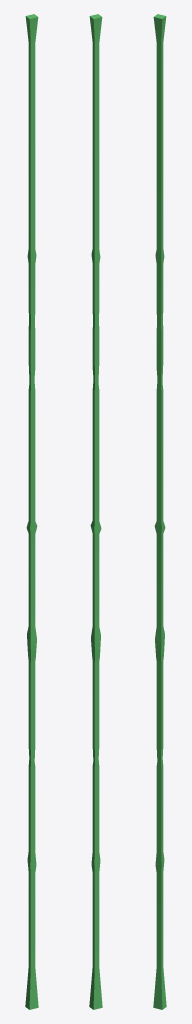
The model's file is jungle_slime_A_knots.fbx.
The picture shows the model from 3 angles, left to right: view 1: azimuth 30°, elevation 25°; view 2: azimuth 210°, elevation 25°; view 3: azimuth 330°, elevation 25°; orthographic projection.
Parts seen in each view (by area): view 1: jungle_slime_A_knots; view 2: jungle_slime_A_knots; view 3: jungle_slime_A_knots.
Boxes of the visible parts, x1=… form: jungle_slime_A_knots: x1=25, y1=14, x2=38, y2=1009; jungle_slime_A_knots: x1=89, y1=14, x2=102, y2=1009; jungle_slime_A_knots: x1=153, y1=14, x2=166, y2=1009.
Bounding box in the file's own units: 6.59 × 684 × 5.32.
